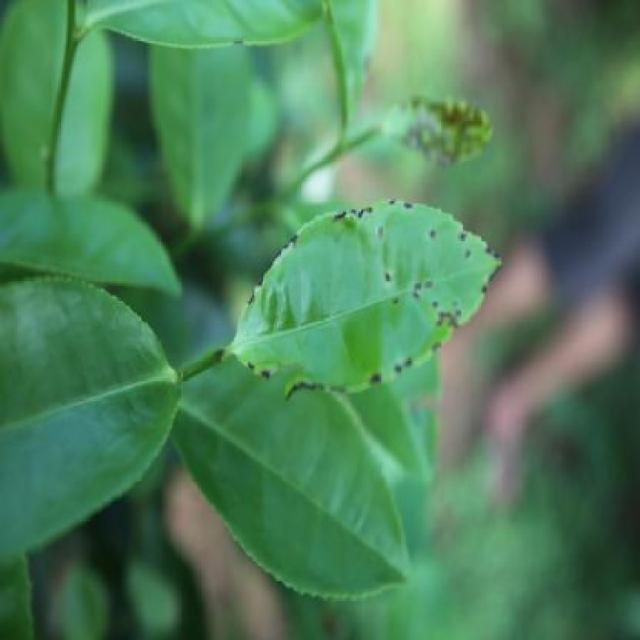Tea Mosquito bug infested leaf: (245, 174, 497, 400)
